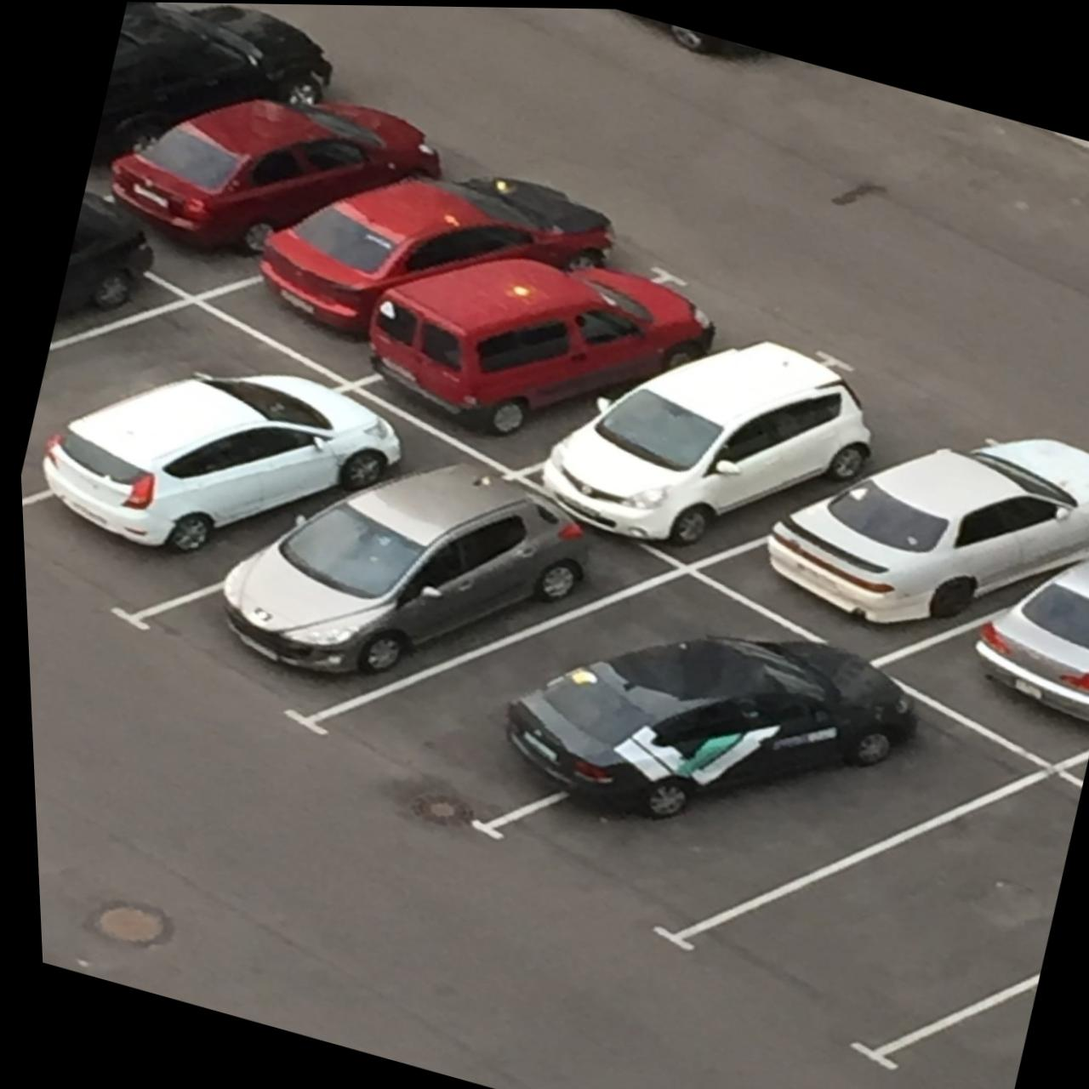cars: (336, 500, 796, 872), (150, 408, 628, 765), (551, 615, 980, 956), (339, 221, 784, 510), (27, 345, 442, 650), (528, 308, 949, 596), (717, 384, 1089, 693), (229, 130, 635, 391), (114, 66, 475, 298), (891, 514, 1089, 751), (90, 1, 324, 189)
empty: (695, 705, 1089, 1066), (12, 265, 307, 545)
